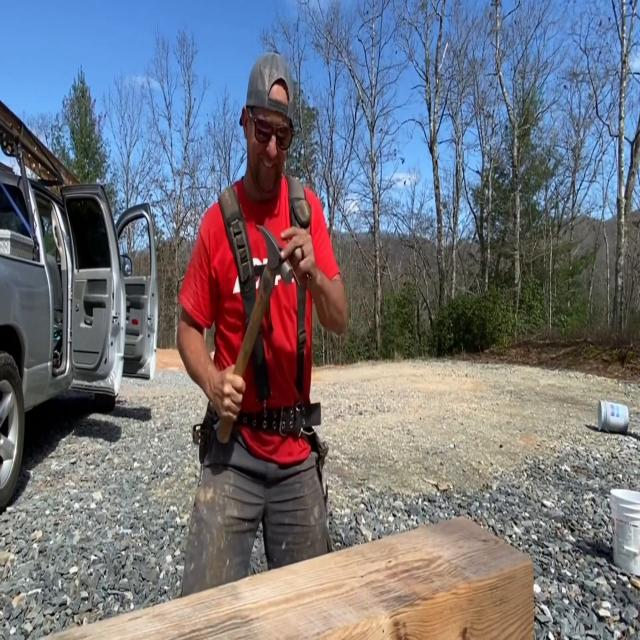hammer: (214, 217, 296, 447)
